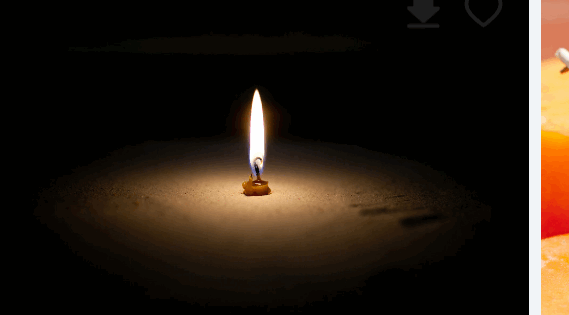Fire: (229, 82, 282, 181)
